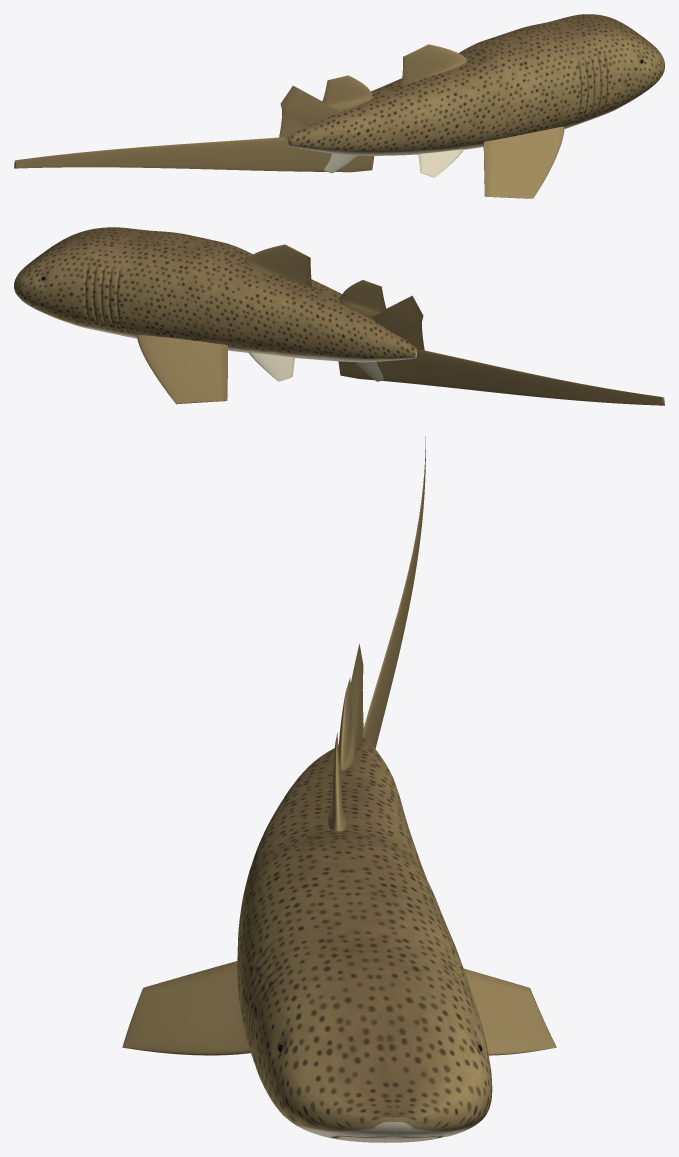
The model's file is zebra_shark.glb.
3 views of the same model, one above another, from view 1: azimuth 30°, elevation 25°; view 2: azimuth 150°, elevation 25°; view 3: azimuth 270°, elevation 25° (orthographic). The views are drawn at different scales.
Parts seen in each view (by area): view 1: ZebraShark_Body, ZebraShark_Fins; view 2: ZebraShark_Body, ZebraShark_Fins; view 3: ZebraShark_Body, ZebraShark_Fins.
Part boxes in pixels (<box>): ZebraShark_Body: <box>287,14,664,155</box>; ZebraShark_Fins: <box>14,44,564,198</box>; ZebraShark_Body: <box>14,227,416,362</box>; ZebraShark_Fins: <box>137,244,664,405</box>; ZebraShark_Body: <box>237,738,492,1142</box>; ZebraShark_Fins: <box>122,436,556,1055</box>.
Size of the model in its own units: 2.5 by 0.4833 by 0.7452.
3 materials, 1 textured.
